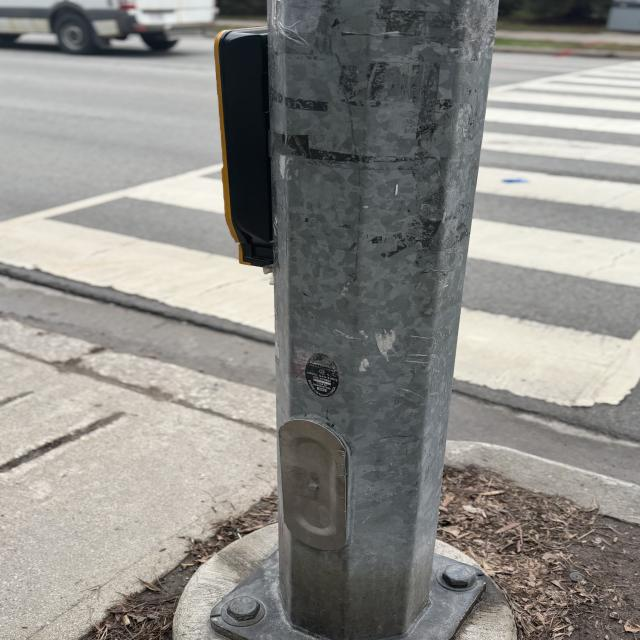Electrical Pole: (196, 1, 513, 640)
